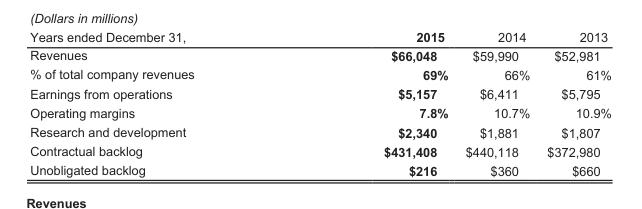table: (29, 29, 610, 177)
table column: (29, 29, 288, 177), (288, 29, 456, 177), (456, 29, 537, 177), (537, 29, 610, 177)
table column header: (29, 29, 610, 45)
table row: (29, 83, 610, 103), (29, 45, 610, 64), (29, 64, 610, 83), (29, 103, 610, 122), (29, 122, 610, 141), (29, 141, 610, 160), (29, 160, 610, 177), (29, 29, 610, 45)
